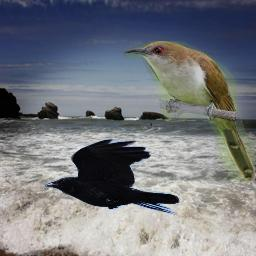Crow: (44, 139, 180, 215)
Cuckoo: (123, 41, 255, 182)
